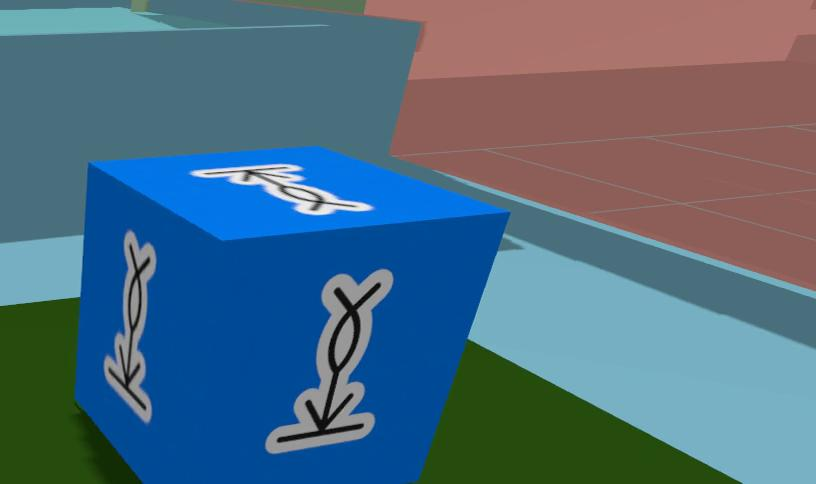KFS_REAL: (75, 146, 507, 484), (266, 269, 392, 452), (103, 230, 156, 422), (191, 164, 372, 214)
